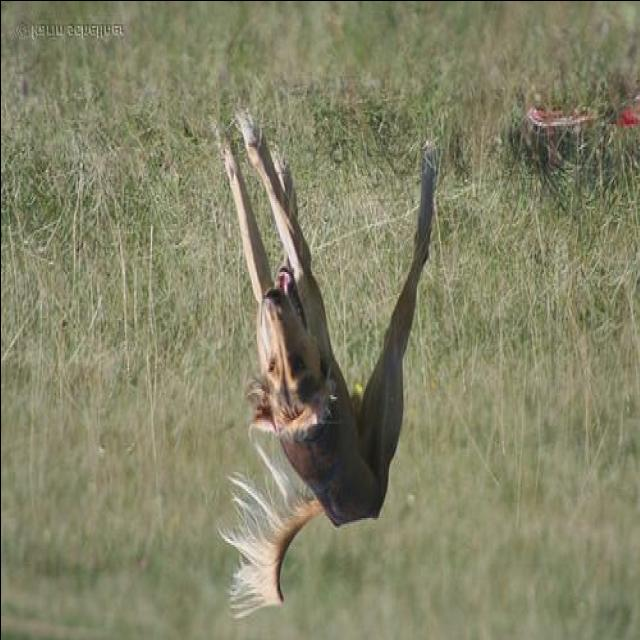saluki: (201, 105, 435, 620)
